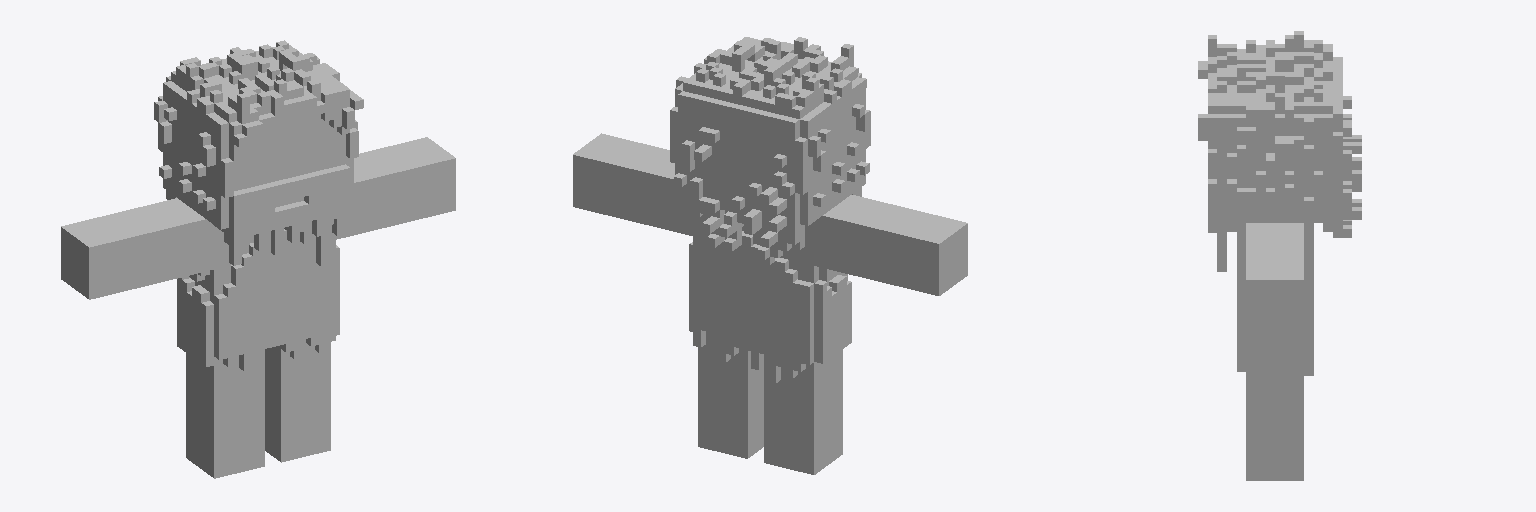
The model's file is Soldier_01 Reinforced.obj.
3 renders of one model, left to right at view 1: azimuth 30°, elevation 25°; view 2: azimuth 150°, elevation 25°; view 3: azimuth 270°, elevation 25°, orthographic.
Visible parts, largest first — view 1: object 1; view 2: object 1; view 3: object 1.
Boxes of the visible parts, x1=… form: object 1: x1=61, y1=40, x2=455, y2=478; object 1: x1=573, y1=37, x2=967, y2=474; object 1: x1=1198, y1=31, x2=1361, y2=480.
Size of the model in its own units: 4.4 by 4.5 by 1.7.